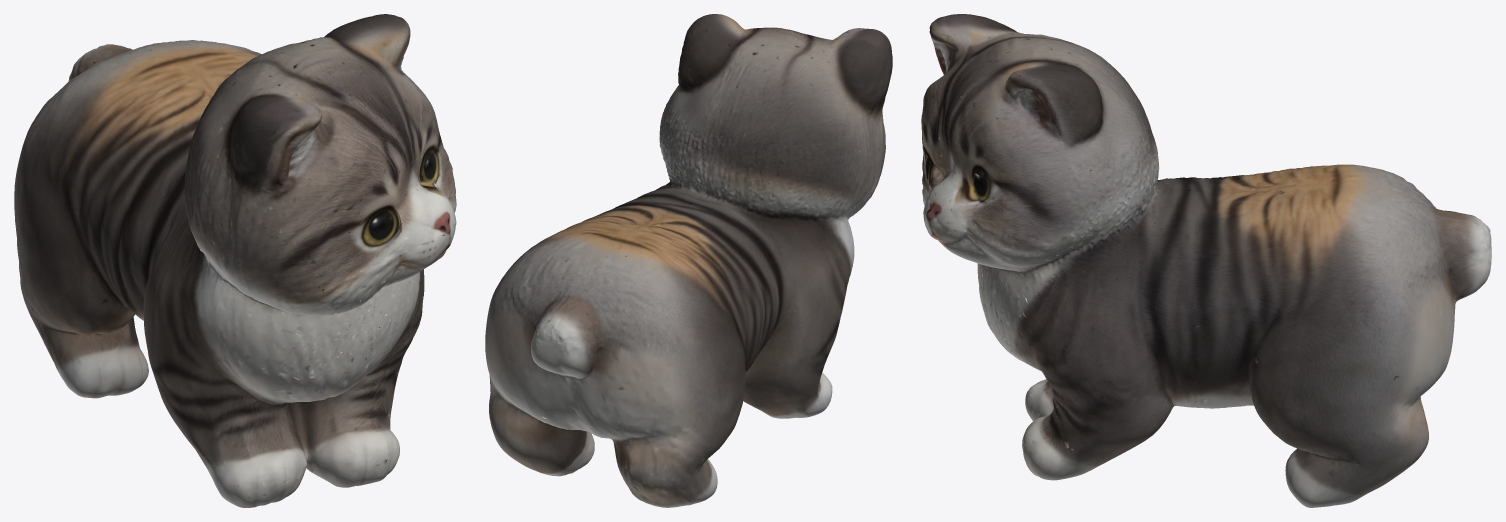
File: cat5.glb
3 renders of one model, left to right at view 1: azimuth 30°, elevation 25°; view 2: azimuth 150°, elevation 25°; view 3: azimuth 270°, elevation 25°, orthographic. The views are drawn at different scales.
Bounding box in the file's own units: 1.09 × 1.61 × 2.
Materials: 1 (1 with a texture image).
